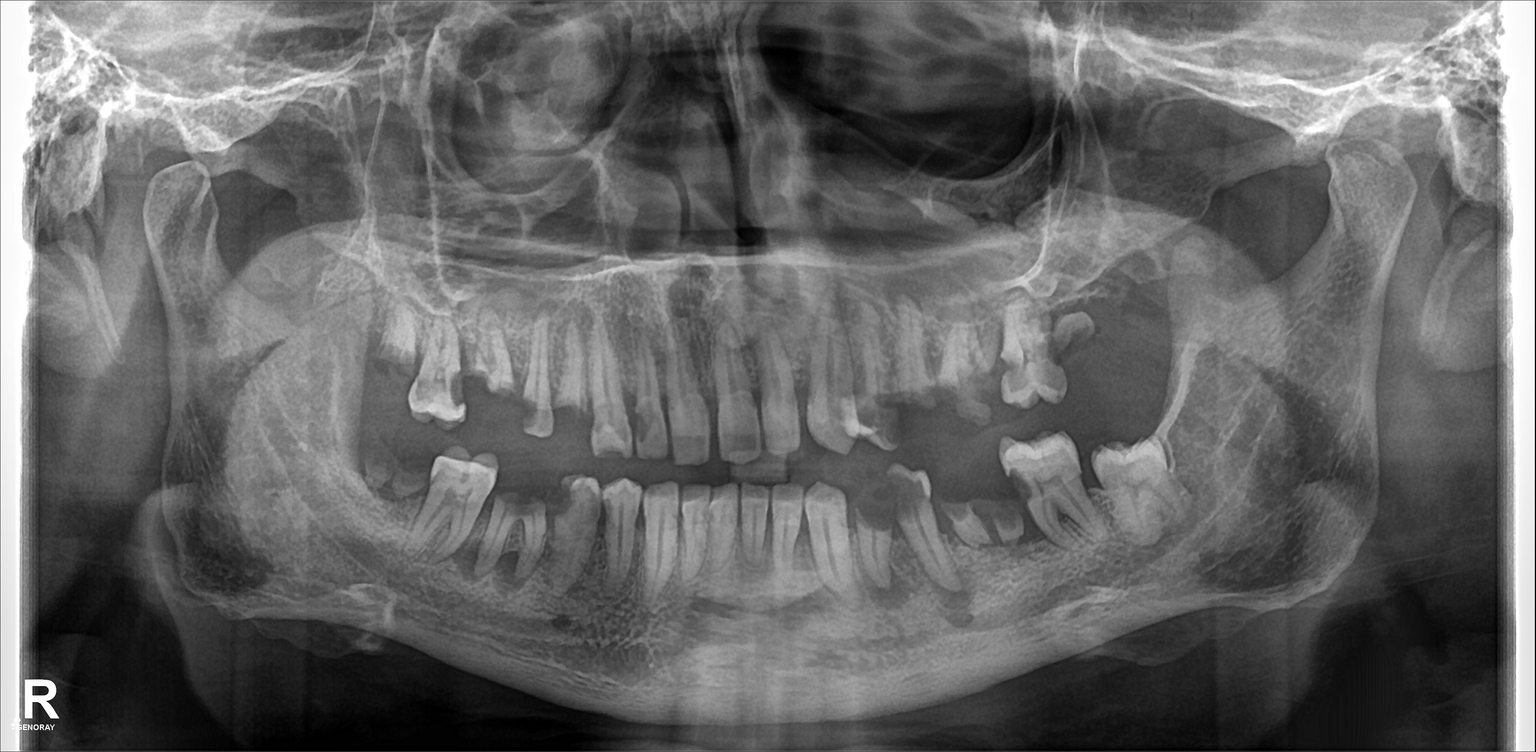Dental Caries: (888, 475, 927, 512), (536, 480, 578, 514), (868, 411, 903, 439), (380, 354, 416, 381), (1009, 465, 1032, 506), (501, 490, 535, 515), (443, 374, 466, 408), (635, 410, 656, 439), (521, 402, 536, 425)
Impacted Third Molar: (1091, 439, 1187, 541)
Missing Tooth: (1115, 274, 1164, 387)
Retained Root: (359, 303, 417, 405), (361, 436, 422, 523), (501, 471, 550, 563), (903, 311, 942, 422), (549, 335, 591, 434), (1065, 292, 1108, 386), (849, 490, 894, 570), (942, 471, 979, 566), (976, 473, 1015, 563), (881, 307, 910, 419), (477, 329, 512, 420)
